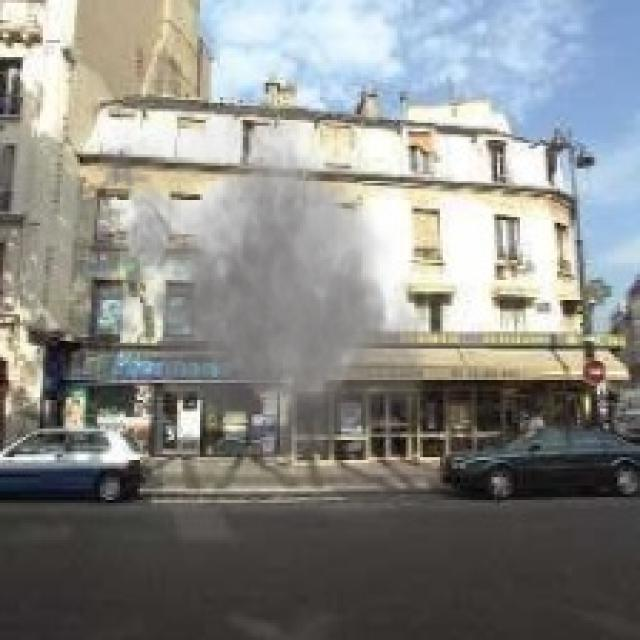smoke: (89, 77, 440, 486)
